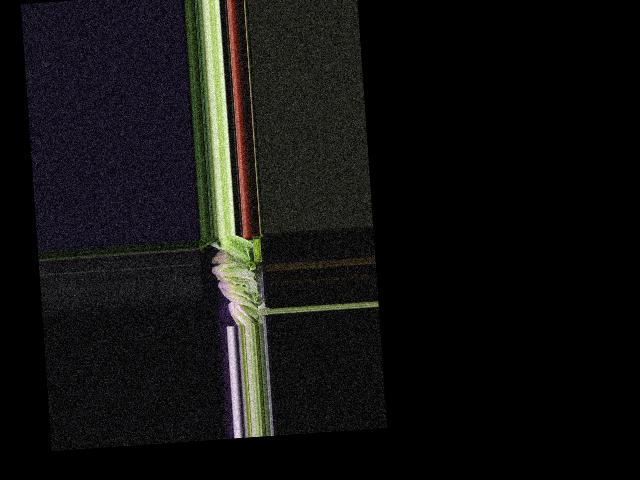lettuce: (226, 298, 257, 327)
